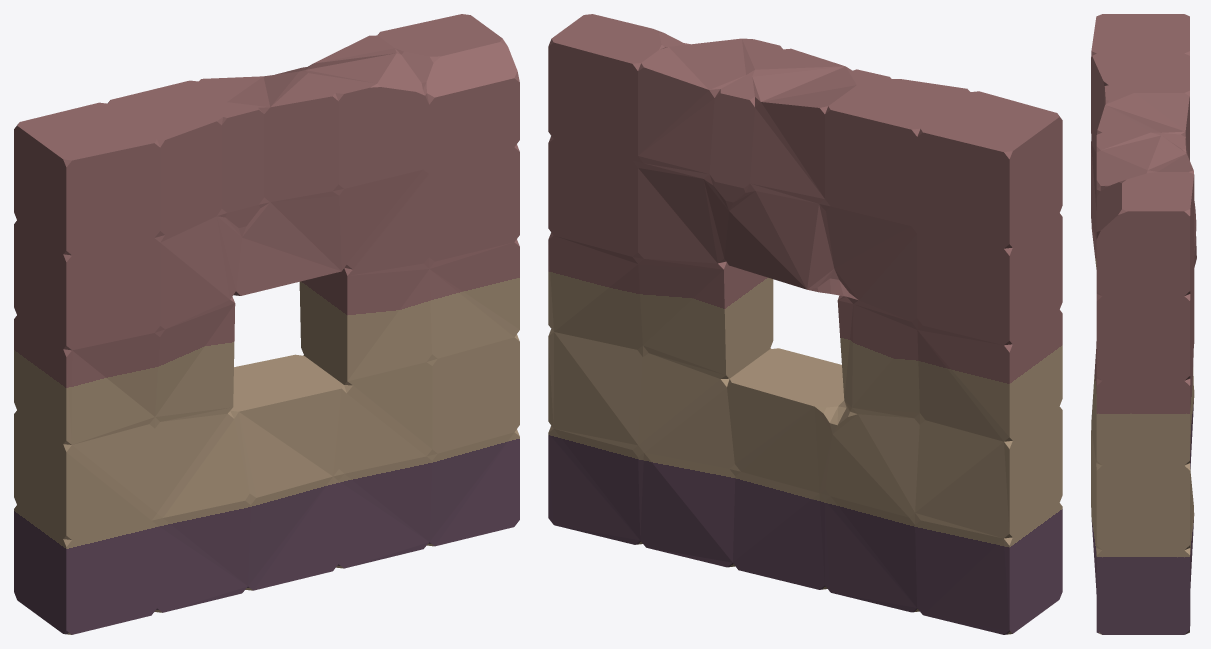
The model's file is Wall 5.002.fbx.
3 renders of one model, left to right at view 1: azimuth 30°, elevation 25°; view 2: azimuth 150°, elevation 25°; view 3: azimuth 270°, elevation 25°, orthographic. The views are drawn at different scales.
Visible parts, largest first — view 1: Wall 5.002; view 2: Wall 5.002; view 3: Wall 5.002.
Boxes of the visible parts, left/top/right/bottom form: Wall 5.002: left=14, top=14, right=519, bottom=634; Wall 5.002: left=548, top=14, right=1062, bottom=634; Wall 5.002: left=1091, top=14, right=1196, bottom=634.
Bounding box in the file's own units: 500 × 500 × 113.
